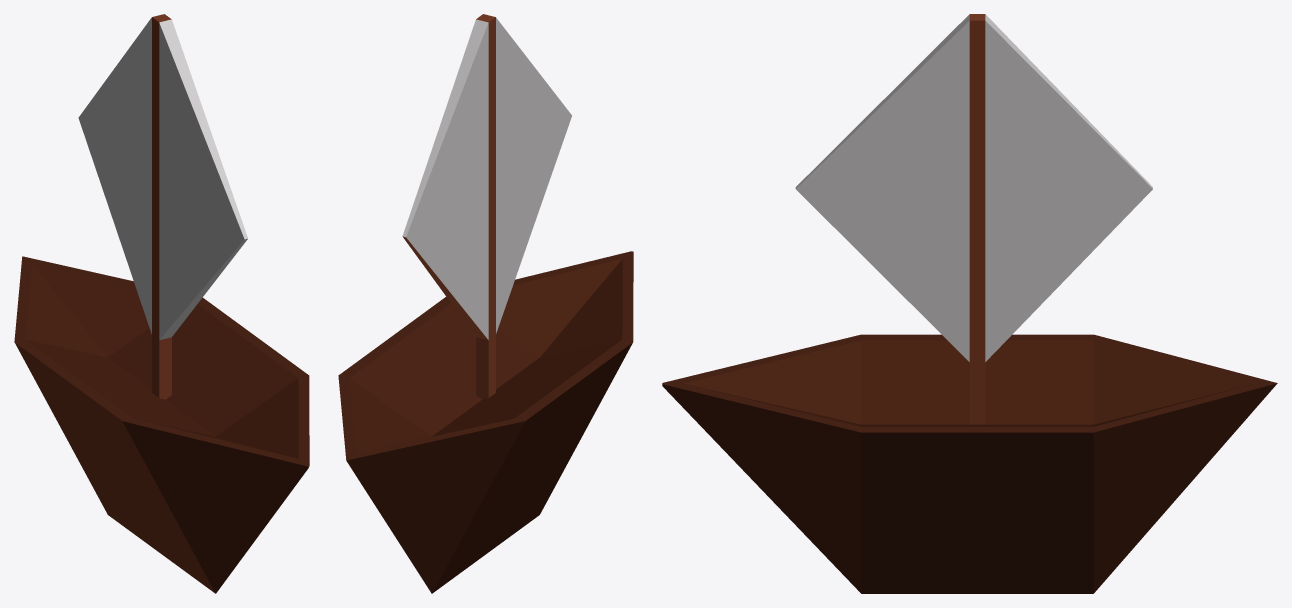
The model's file is boatyMacBootface.fbx.
3 views of the same model, side by side, from view 1: azimuth 30°, elevation 25°; view 2: azimuth 150°, elevation 25°; view 3: azimuth 270°, elevation 25° (orthographic). The views are drawn at different scales.
Parts seen in each view (by area): view 1: Cube, Cube.001; view 2: Cube, Cube.001; view 3: Cube, Cube.001.
Boxes of the visible parts, <box> form: Cube: <box>14,256,309,593</box>; Cube.001: <box>78,14,247,399</box>; Cube: <box>338,251,633,593</box>; Cube.001: <box>402,14,571,399</box>; Cube: <box>662,334,1277,593</box>; Cube.001: <box>795,14,1152,424</box>.
Bounding box in the file's own units: 200 × 548 × 530.
